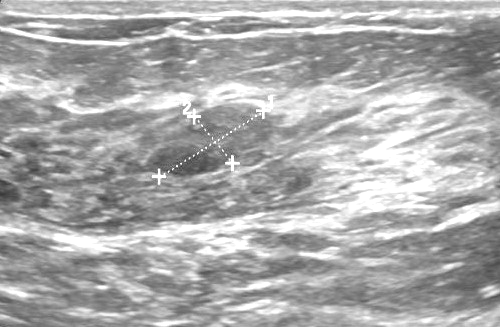Benign: (160, 101, 239, 176)
